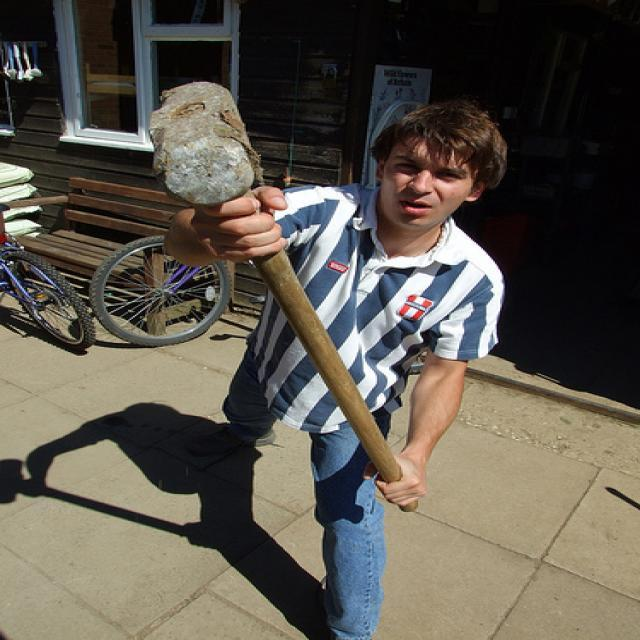hammer: (136, 68, 432, 517)
